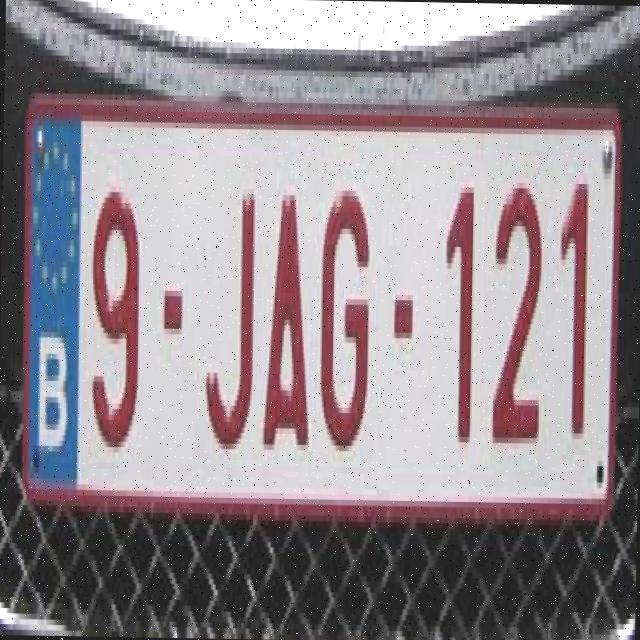Belgique: (24, 110, 84, 487)
EU: (14, 96, 618, 524)
